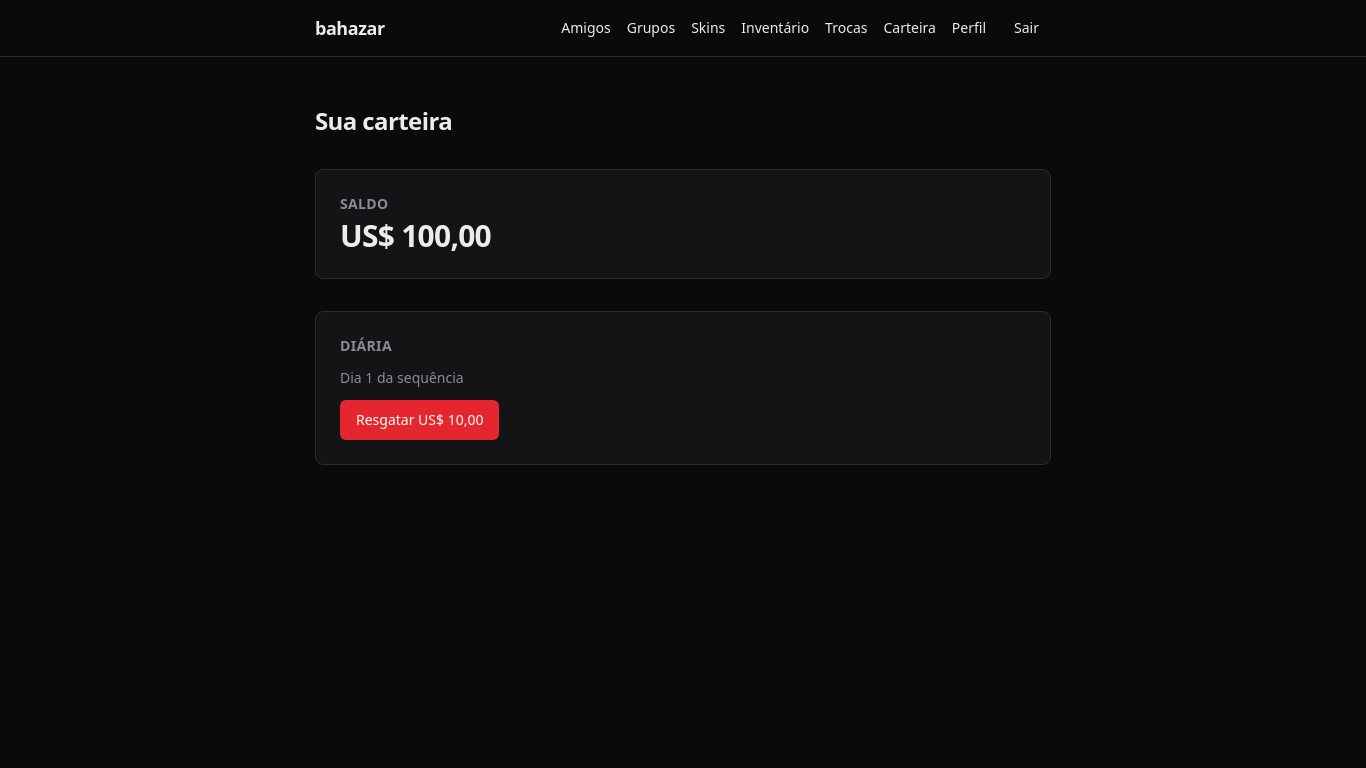
Test: WalletPage › 409 daily_not_ready (outra aba resgatou): avisa, mostra quando libera e recarrega a carteira
Click the button "Resgatar US$ 10,00".
click(420, 420)  # box [340, 400, 500, 440]
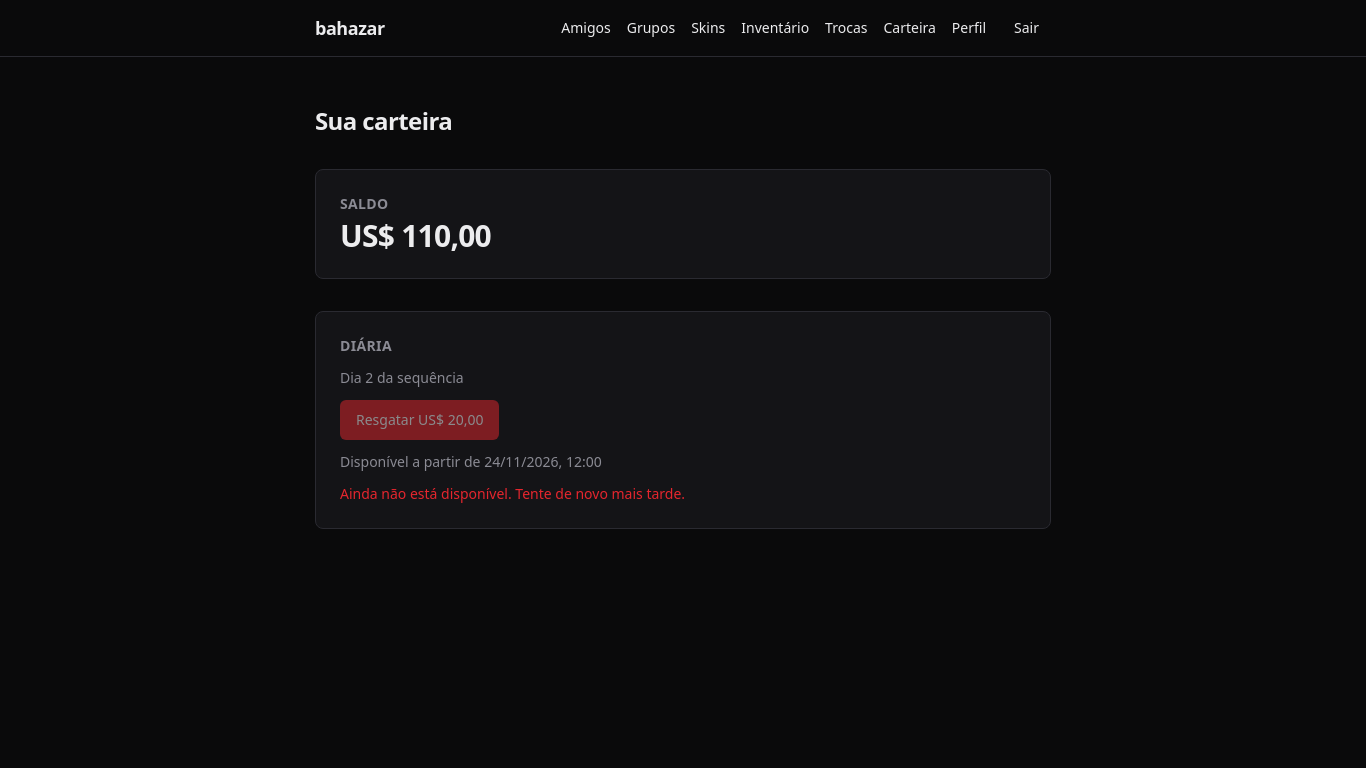
Now the message shows "Ainda não está disponível", box [340, 484, 685, 503]
Now the text "Disponível a partir de 24/11/2026, 12:00" is shown, box [340, 452, 602, 471]
